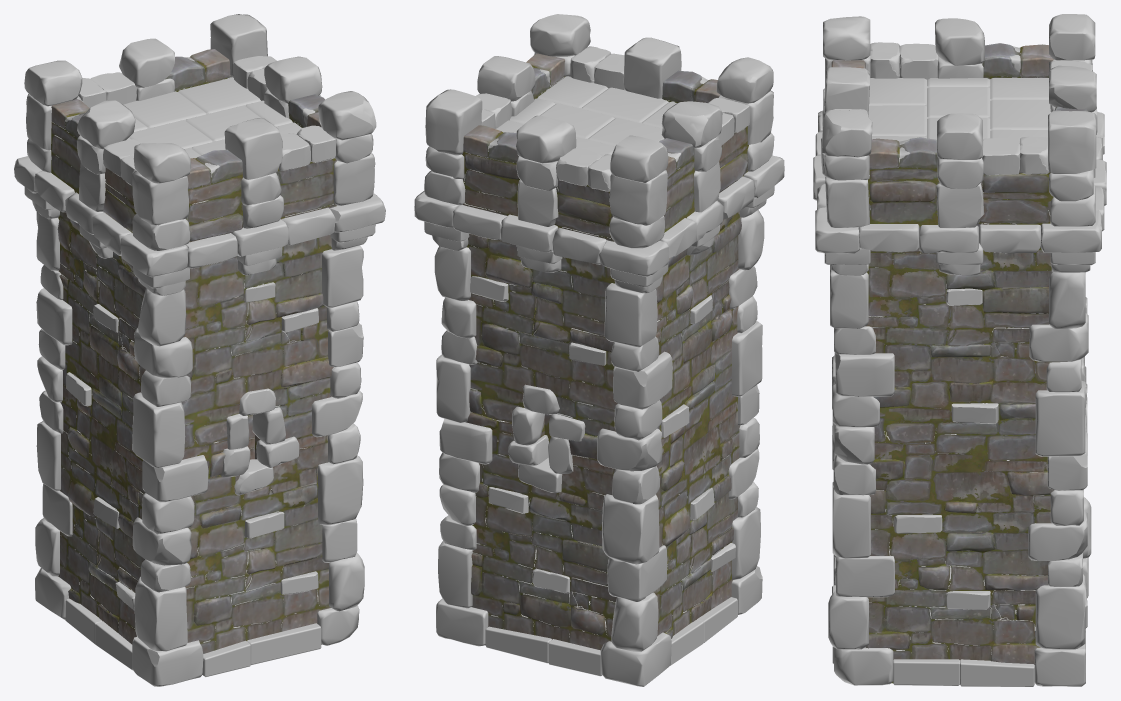
The picture shows the model from 3 angles, left to right: view 1: azimuth 30°, elevation 25°; view 2: azimuth 150°, elevation 25°; view 3: azimuth 270°, elevation 25°; orthographic projection. The views are drawn at different scales.
Visible parts, largest first — view 1: SM_Castle_Tower_4x10_01_v1_LOD0; view 2: SM_Castle_Tower_4x10_01_v1_LOD0; view 3: SM_Castle_Tower_4x10_01_v1_LOD0.
Boxes of the visible parts, x1,y1,x2,y2 form: SM_Castle_Tower_4x10_01_v1_LOD0: (14, 14, 385, 686); SM_Castle_Tower_4x10_01_v1_LOD0: (414, 14, 784, 686); SM_Castle_Tower_4x10_01_v1_LOD0: (813, 14, 1106, 686).
Bounding box in the file's own units: 3.98 × 8.59 × 4.06.
